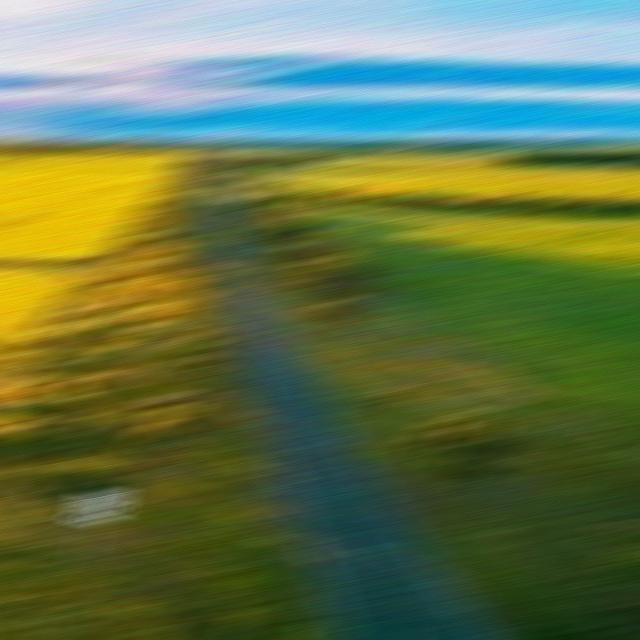speedLimit40: (70, 489, 127, 558)
